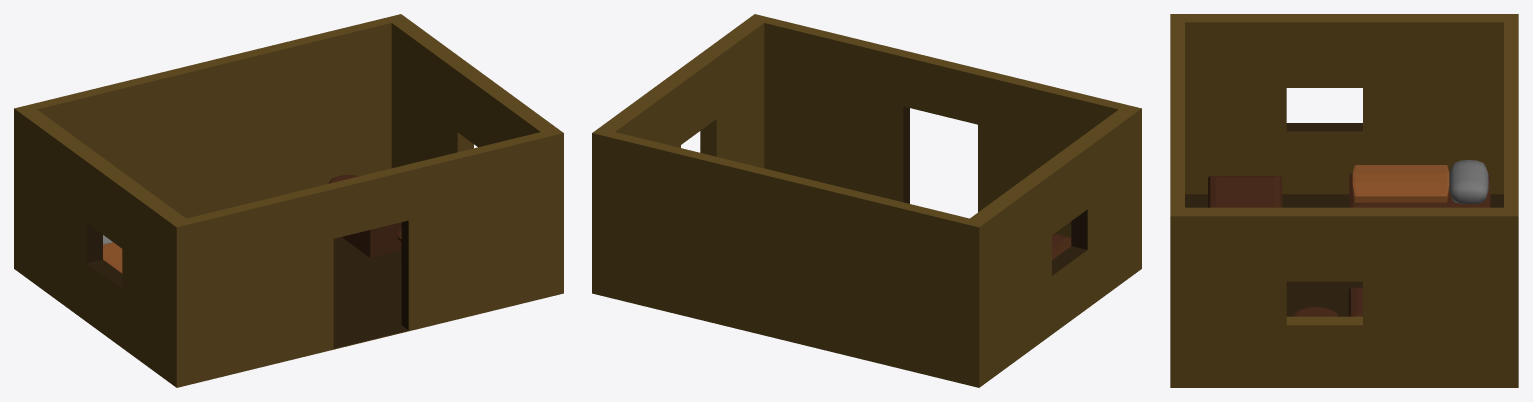
The model's file is LinkRoom.obj.
The picture shows the model from 3 angles, left to right: view 1: azimuth 30°, elevation 25°; view 2: azimuth 150°, elevation 25°; view 3: azimuth 270°, elevation 25°; orthographic projection. The views are drawn at different scales.
Visible parts, largest first — view 1: Cube_Cube.001, Cube.003_Cube.004; view 2: Cube_Cube.001; view 3: Cube_Cube.001, Cube.005_Cube.006, Cube.002_Cube.007, Cube.004_Cube.005, Cube.001_Cube.002, Cube.003_Cube.004, Cylinder.
Boxes of the visible parts, box(x1,y1,x2,y2) form: Cube_Cube.001: box(14, 14, 563, 387); Cube.003_Cube.004: box(342, 222, 401, 257); Cube_Cube.001: box(592, 14, 1141, 387); Cube_Cube.001: box(1170, 14, 1518, 387); Cube.005_Cube.006: box(1352, 165, 1449, 202); Cube.002_Cube.007: box(1208, 175, 1282, 207); Cube.004_Cube.005: box(1449, 160, 1488, 203); Cube.001_Cube.002: box(1349, 173, 1490, 207); Cube.003_Cube.004: box(1348, 287, 1362, 316); Cylinder: box(1293, 307, 1337, 316).
Bounding box in the file's own units: 9.16 × 3.71 × 6.67.
